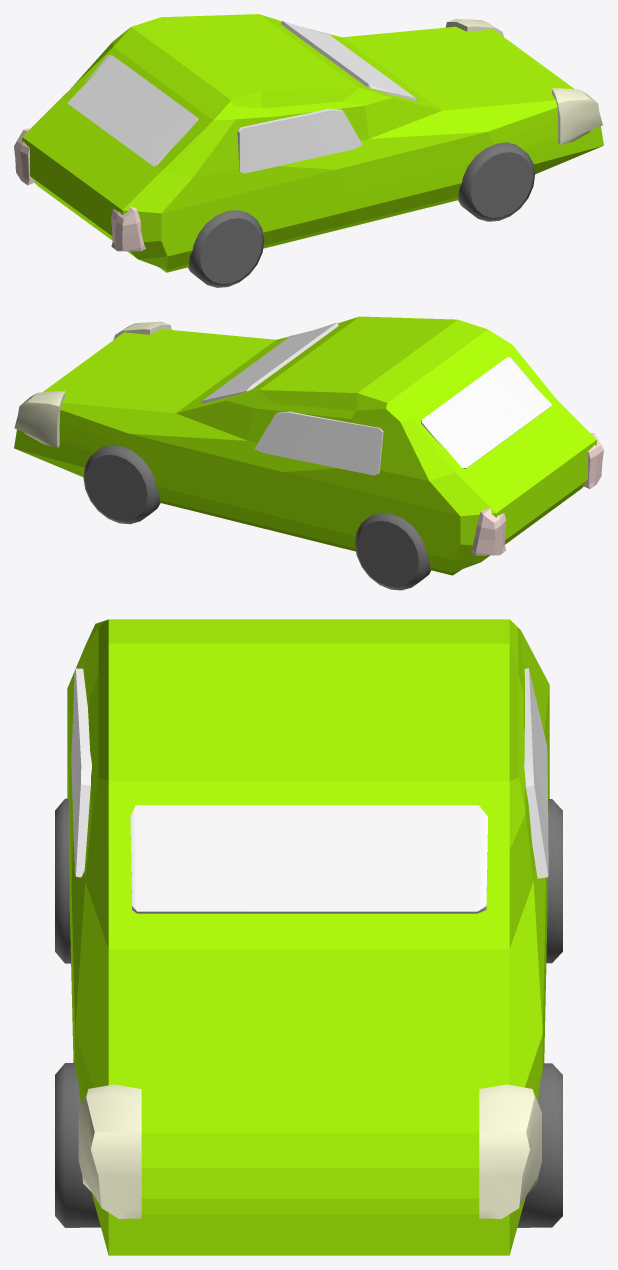
File: CarroVerde.fbx
3 renders of one model, top to bottom at view 1: azimuth 30°, elevation 25°; view 2: azimuth 150°, elevation 25°; view 3: azimuth 270°, elevation 25°, orthographic. The views are drawn at different scales.
Visible parts, largest first — view 1: pCube1, pCube10, pCube8, pCylinder1, pCylinder2, pCube9, pCube6, pCube11; view 2: pCube1, pCube10, pCube12, pCylinder3, pCylinder4, pCube9, pCube6, pCube11; view 3: pCube1, pCube6, pCube9, pCylinder1, pCylinder3, pCube12, pCube8, pCylinder4, pCylinder2.
Boxes of the visible parts, x1=… form: pCube1: x1=22, y1=14, x2=603, y2=272; pCube10: x1=67, y1=55, x2=197, y2=166; pCube8: x1=237, y1=108, x2=362, y2=173; pCylinder1: x1=458, y1=142, x2=534, y2=221; pCylinder2: x1=188, y1=210, x2=264, y2=287; pCube9: x1=445, y1=18, x2=602, y2=144; pCube6: x1=281, y1=20, x2=417, y2=101; pCube11: x1=14, y1=128, x2=145, y2=251; pCube1: x1=14, y1=316, x2=596, y2=575; pCube10: x1=421, y1=357, x2=552, y2=468; pCube12: x1=254, y1=411, x2=383, y2=475; pCylinder3: x1=83, y1=445, x2=160, y2=524; pCylinder4: x1=355, y1=513, x2=431, y2=590; pCube9: x1=14, y1=321, x2=171, y2=447; pCube6: x1=200, y1=322, x2=338, y2=403; pCube11: x1=471, y1=433, x2=603, y2=555; pCube1: x1=67, y1=619, x2=549, y2=1255; pCube6: x1=130, y1=805, x2=488, y2=913; pCube9: x1=78, y1=1084, x2=541, y2=1218; pCylinder1: x1=55, y1=1063, x2=100, y2=1227; pCylinder3: x1=517, y1=1063, x2=562, y2=1227; pCube12: x1=524, y1=668, x2=548, y2=878; pCube8: x1=71, y1=668, x2=91, y2=877; pCylinder4: x1=546, y1=799, x2=562, y2=963; pCylinder2: x1=55, y1=798, x2=70, y2=963.
Bounding box in the file's own units: 24.46 × 8.56 × 11.09.
